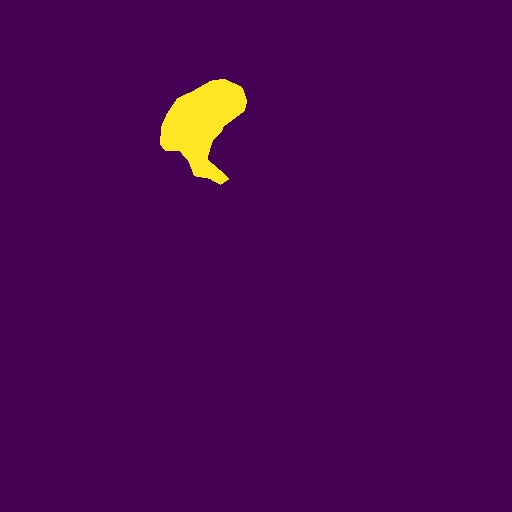Gliomia_tumour: (160, 79, 247, 185)
